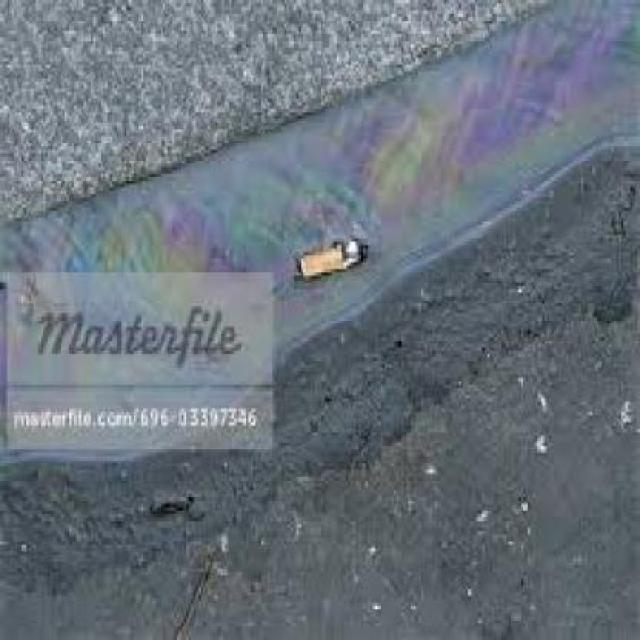cigarette: (288, 232, 382, 276)
